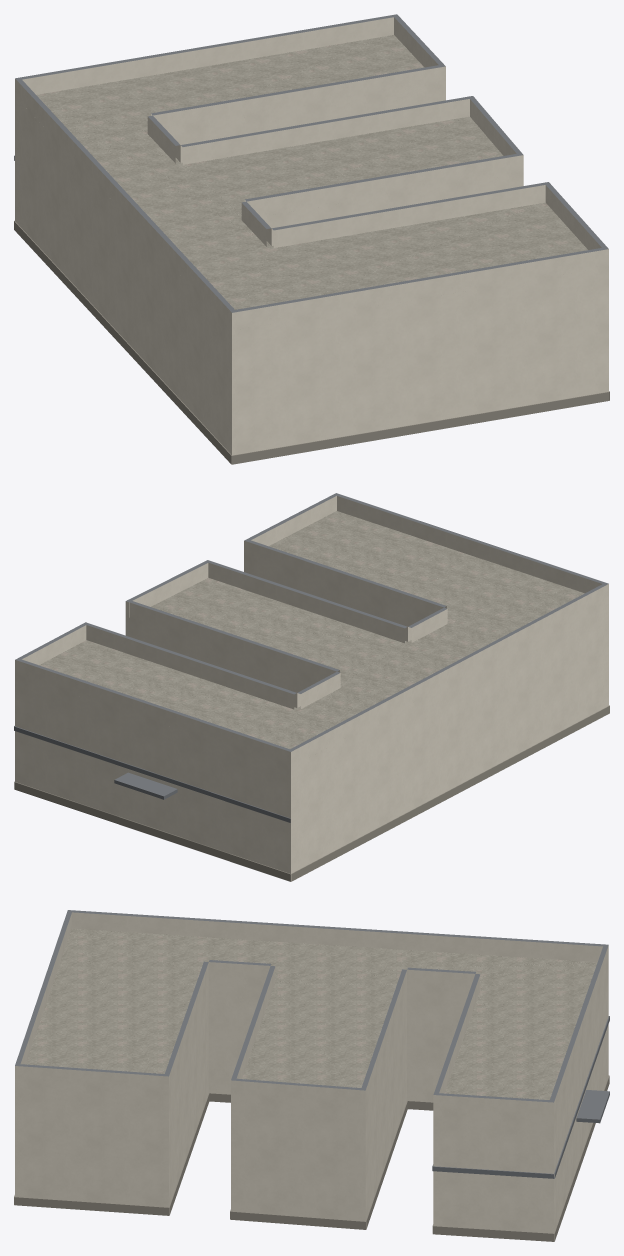
3 renders of one model, top to bottom at view 1: azimuth 30°, elevation 25°; view 2: azimuth 150°, elevation 25°; view 3: azimuth 270°, elevation 25°, orthographic. The views are drawn at different scales.
Visible parts, largest first — view 1: B-w1475236311_cubierta, B-w1475236311_muros, B-w1475236311_lejos, B-w1475236311_molduras; view 2: B-w1475236311_cubierta, B-w1475236311_muros, B-w1475236311_lejos, B-w1475236311_molduras, B-w1475236311_remates; view 3: B-w1475236311_cubierta, B-w1475236311_lejos, B-w1475236311_muros, B-w1475236311_molduras, B-w1475236311_remates.
Boxes of the visible parts, x1,y1,x2,y2 form: B-w1475236311_cubierta: [15, 14, 608, 312]; B-w1475236311_muros: [15, 66, 608, 455]; B-w1475236311_lejos: [15, 96, 608, 463]; B-w1475236311_molduras: [14, 155, 609, 464]; B-w1475236311_cubierta: [15, 493, 608, 751]; B-w1475236311_muros: [15, 540, 608, 872]; B-w1475236311_lejos: [15, 556, 608, 881]; B-w1475236311_molduras: [14, 705, 609, 881]; B-w1475236311_remates: [114, 772, 177, 799]; B-w1475236311_cubierta: [15, 910, 608, 1104]; B-w1475236311_lejos: [15, 962, 608, 1239]; B-w1475236311_muros: [15, 946, 608, 1233]; B-w1475236311_molduras: [14, 1016, 609, 1241]; B-w1475236311_remates: [576, 1090, 609, 1123].
Bounding box in the file's own units: 22.96 × 7.7 × 29.9.
Materials: 5 (2 with a texture image).
